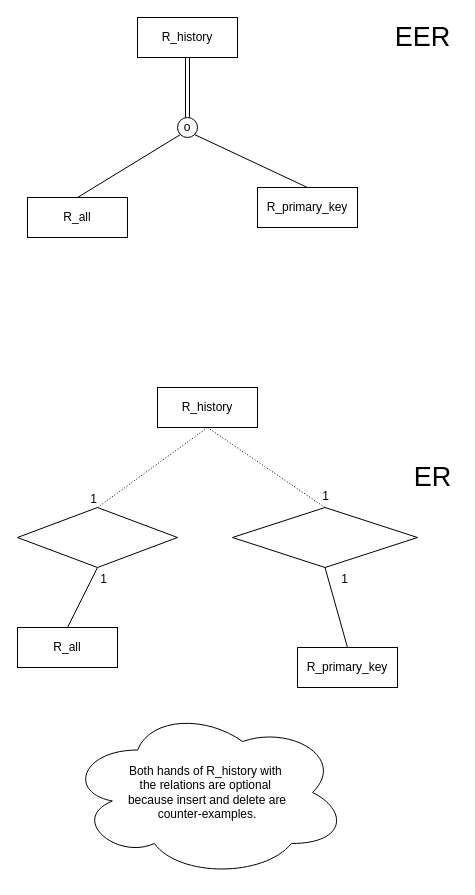
The diagram is 475 pixels wide and 895 high, and some of its shapes have lost their labels. Here are the shapes that lost their labels. From the top down, the centre of each, then its label:
At (x=97, y=537): "HAS_NEW_VALUES".
At (x=325, y=537): "HAS_OLD_VALUES".
